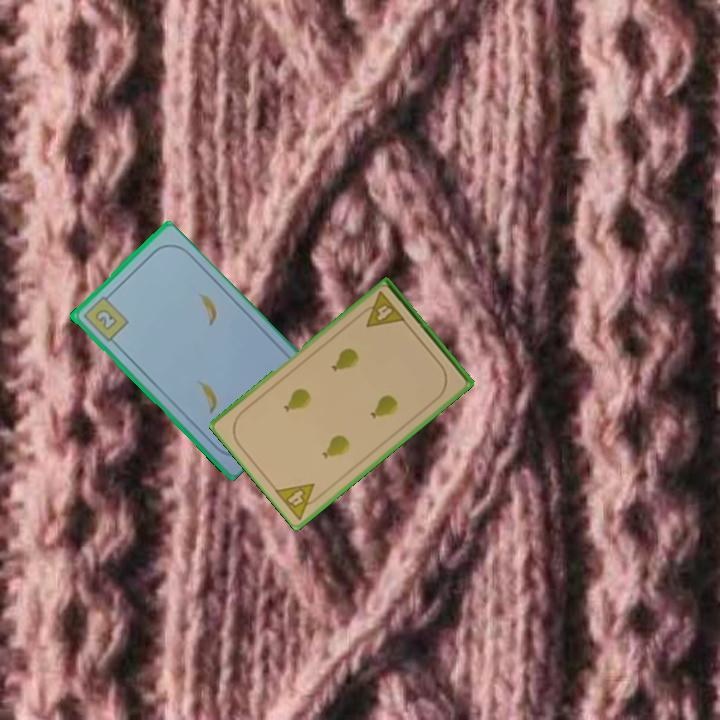2b: (79, 290, 131, 344)
4p: (271, 480, 327, 523), (355, 288, 408, 331)
